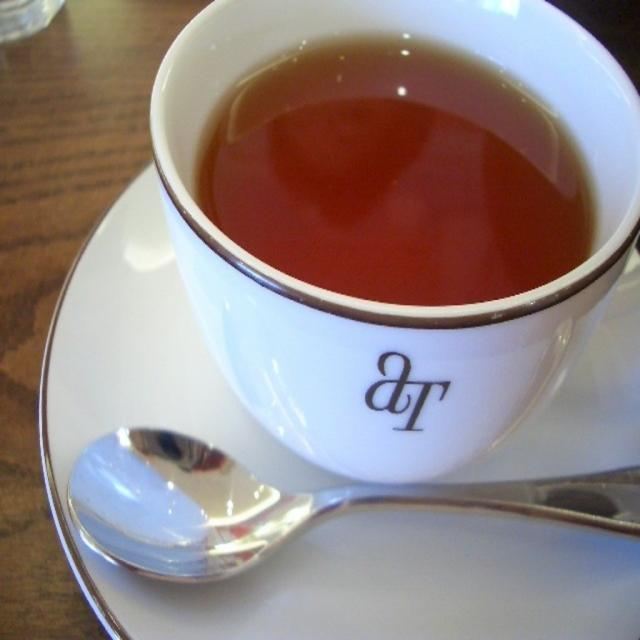Tea: (191, 34, 587, 308)
